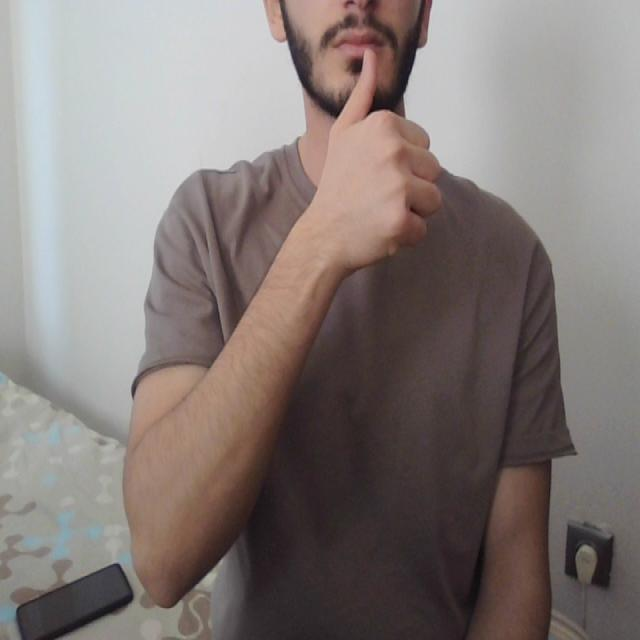Baba: (322, 25, 396, 108)
